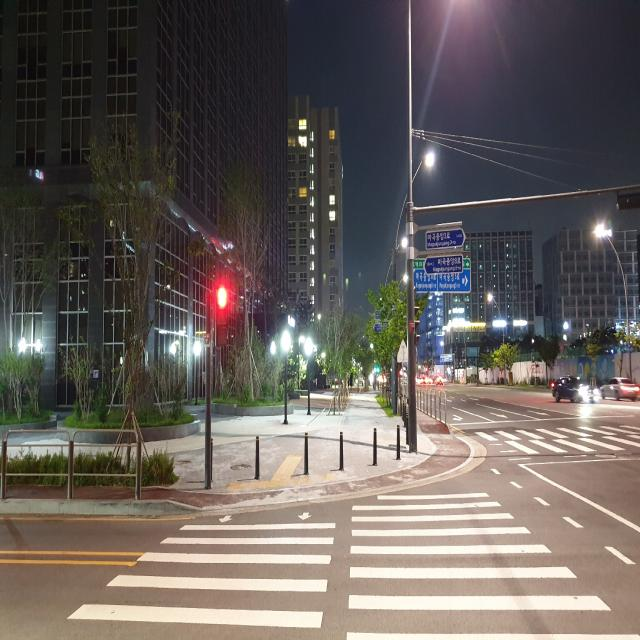빨간불: (217, 286, 230, 346)
횡단보도: (64, 490, 640, 640)
